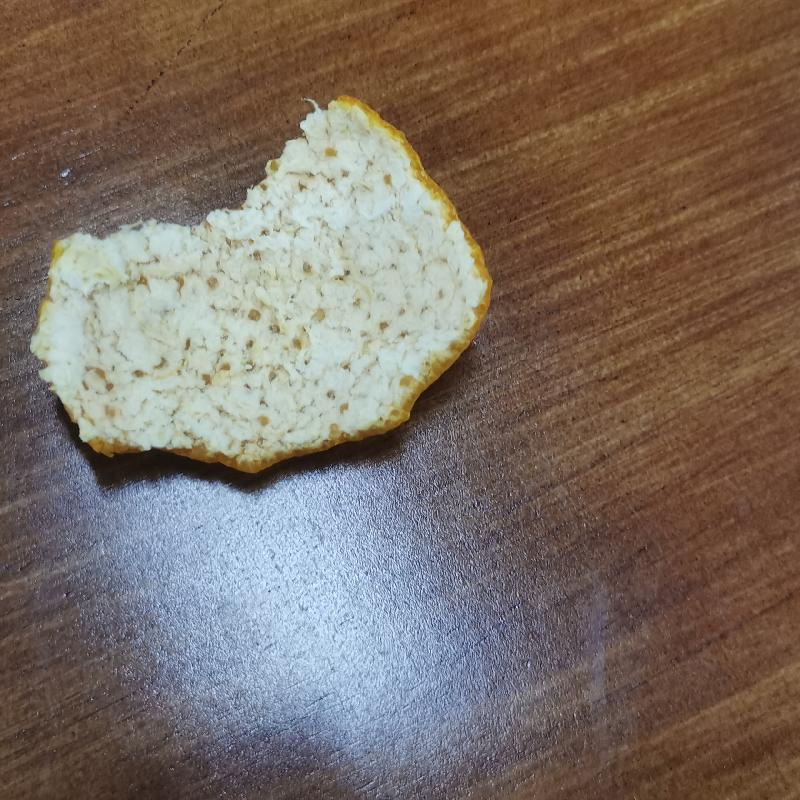orange: (32, 79, 490, 477)
